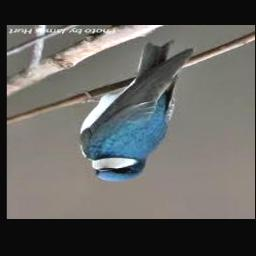Swallow: (79, 40, 196, 182)
